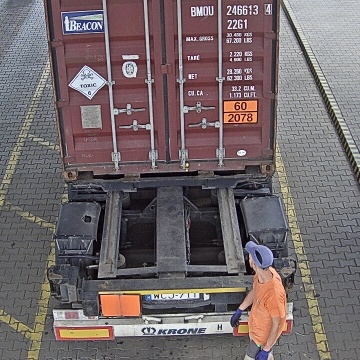serial_id: (191, 3, 272, 16)
